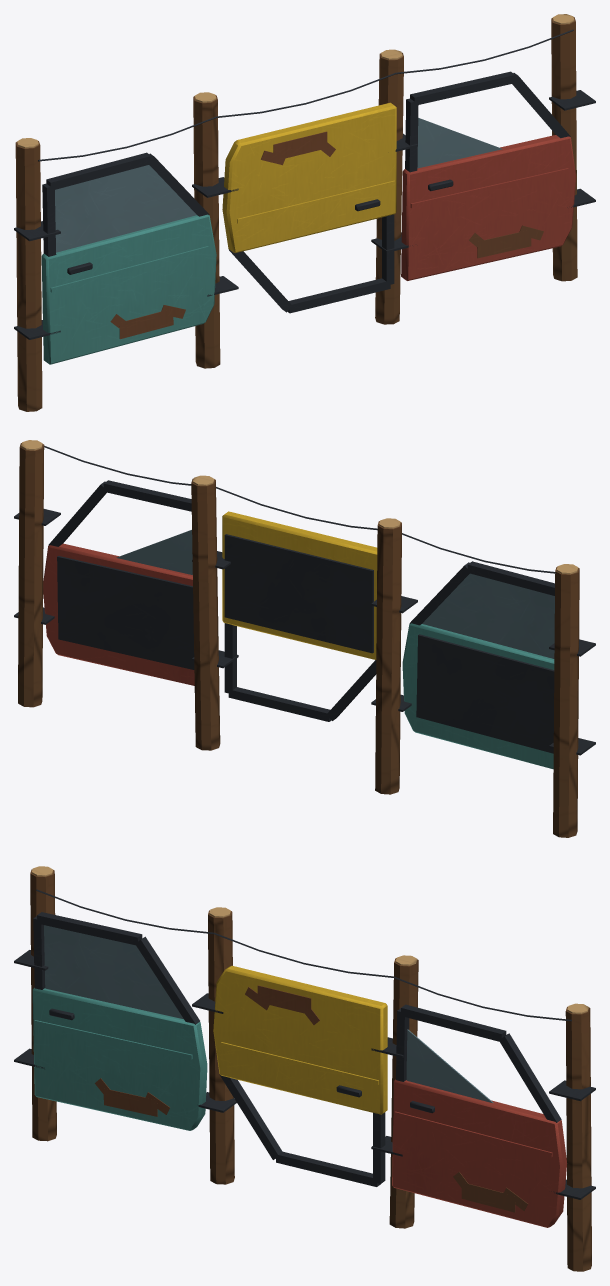
Rendered from car_door_fence.glb.
3 renders of one model, top to bottom at view 1: azimuth 30°, elevation 25°; view 2: azimuth 150°, elevation 25°; view 3: azimuth 330°, elevation 25°, orthographic.
Parts seen in each view (by area): view 1: car_door_fence; view 2: car_door_fence; view 3: car_door_fence.
Boxes of the visible parts, box(x1,y1,x2,y2) form: car_door_fence: box(14, 14, 595, 411); car_door_fence: box(14, 440, 595, 837); car_door_fence: box(14, 866, 595, 1271).
Bounding box in the file's own units: 3.6 × 1.62 × 0.265.
10 materials, 10 textured.
